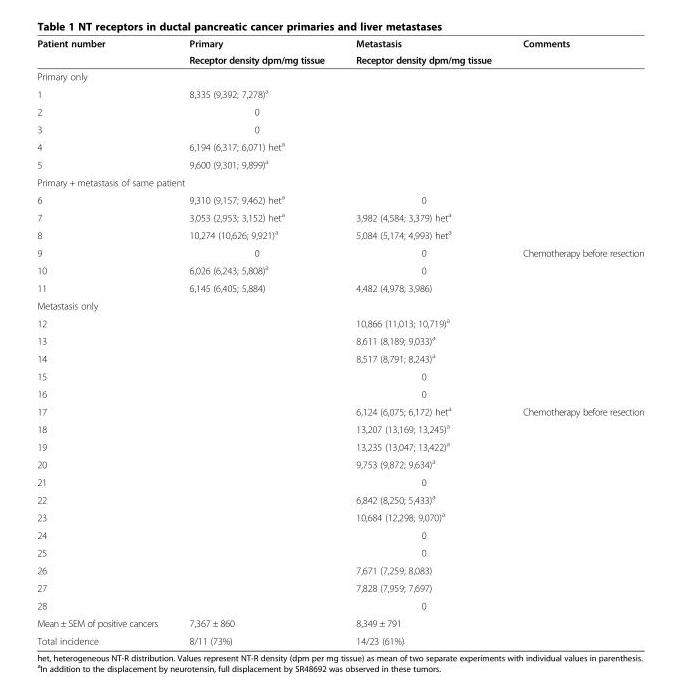table: (36, 37, 643, 646)
table column: (172, 37, 339, 646), (339, 37, 506, 646), (506, 37, 643, 646), (36, 37, 172, 646)
table column header: (36, 37, 643, 67)
table projected row header: (36, 67, 643, 84), (36, 173, 643, 190), (36, 296, 643, 313)
table row: (36, 154, 643, 173), (36, 260, 643, 279), (36, 348, 643, 367), (36, 454, 643, 473), (36, 507, 643, 526), (36, 84, 643, 102), (36, 102, 643, 120), (36, 207, 643, 225), (36, 225, 643, 243), (36, 313, 643, 331), (36, 401, 643, 419), (36, 419, 643, 437), (36, 489, 643, 507), (36, 543, 643, 561), (36, 578, 643, 596), (36, 596, 643, 614), (36, 67, 643, 84), (36, 120, 643, 137), (36, 137, 643, 154), (36, 173, 643, 190), (36, 190, 643, 207), (36, 243, 643, 260), (36, 279, 643, 296), (36, 296, 643, 313), (36, 331, 643, 348), (36, 367, 643, 384), (36, 384, 643, 401), (36, 437, 643, 454), (36, 526, 643, 543), (36, 561, 643, 578), (36, 614, 643, 631), (36, 51, 643, 67), (36, 473, 643, 489), (36, 631, 643, 646), (36, 37, 643, 51)
table spanning cell: (172, 37, 339, 67), (339, 37, 506, 67), (506, 37, 643, 67), (36, 37, 172, 67)
